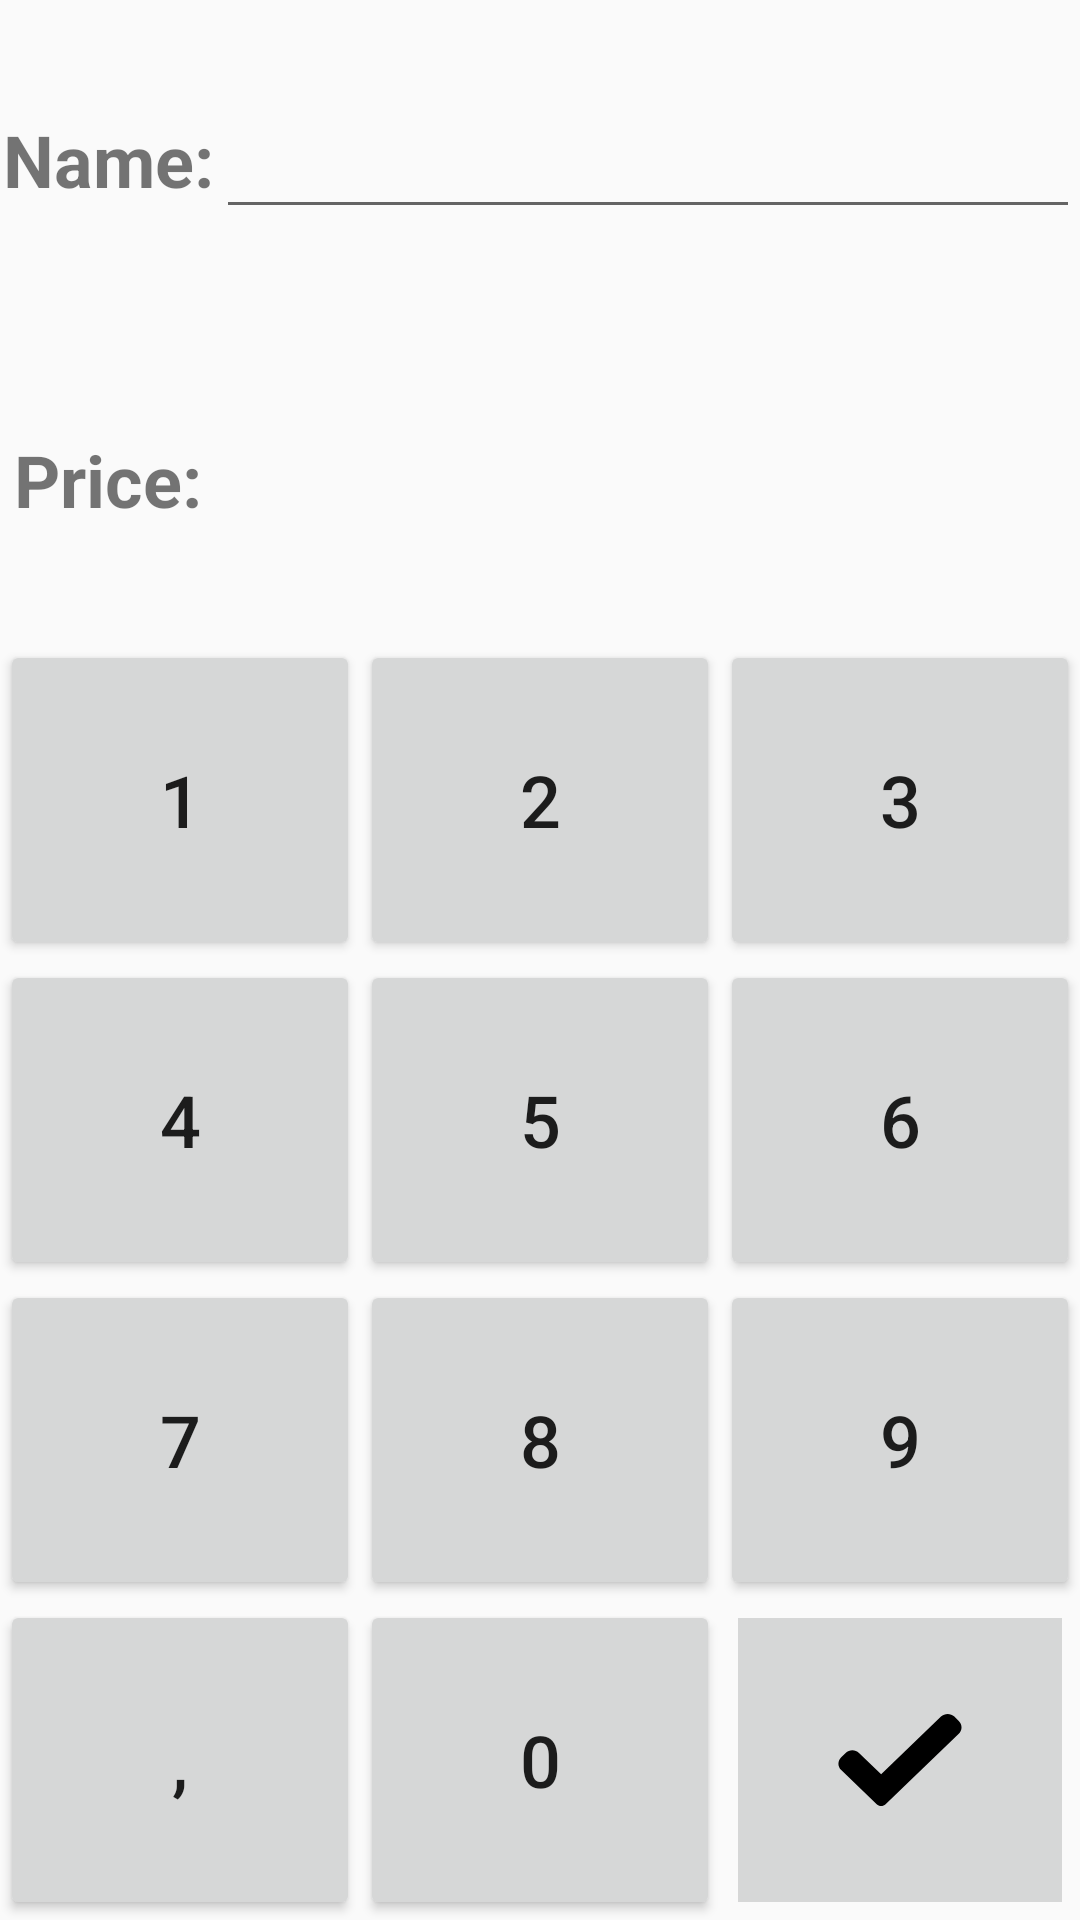

Icon click points for this 1080px×1920px phone screenshot, format (x,y):
check: (900,1760)
